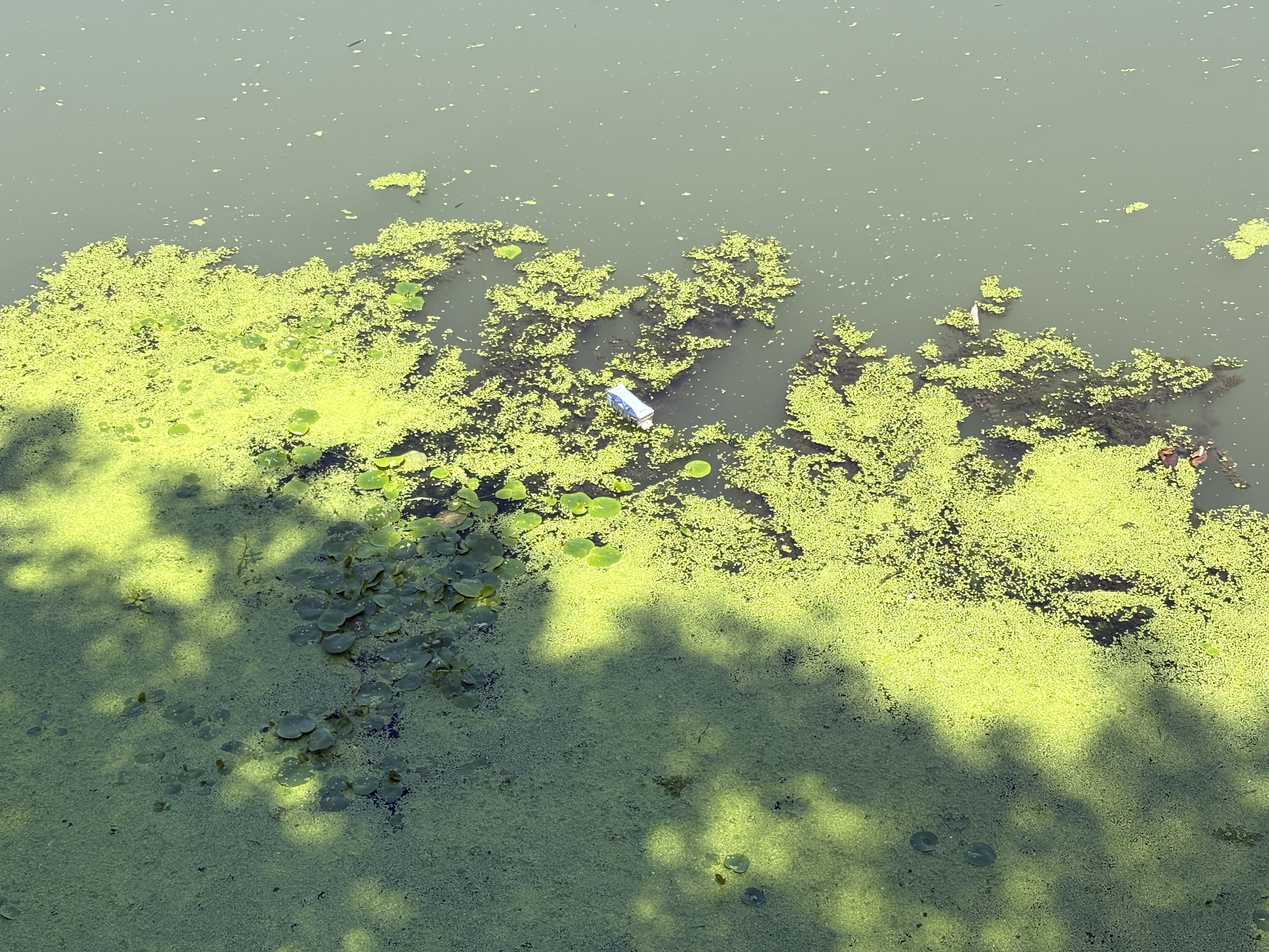Paper wastes: (596, 382, 659, 429)
